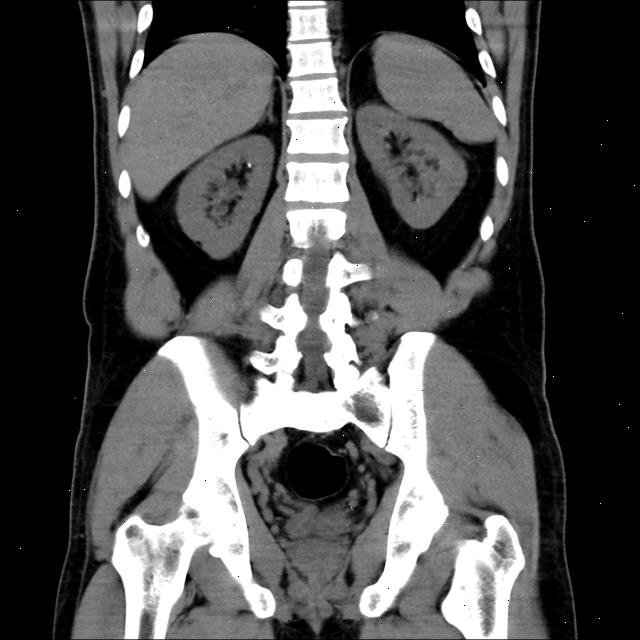kidneystone: (248, 158, 255, 173)
